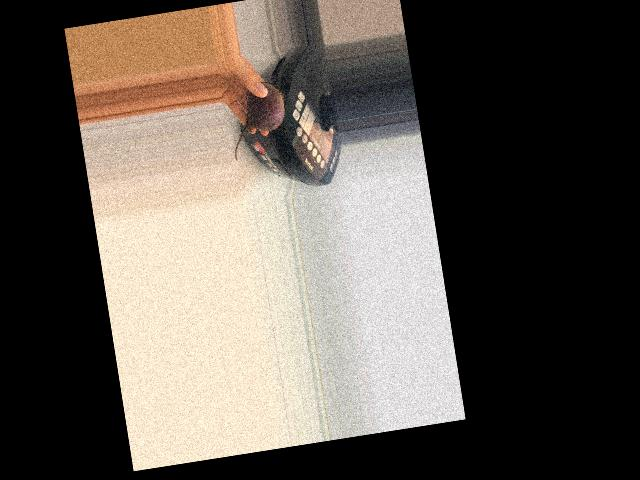beet: (224, 79, 294, 161)
